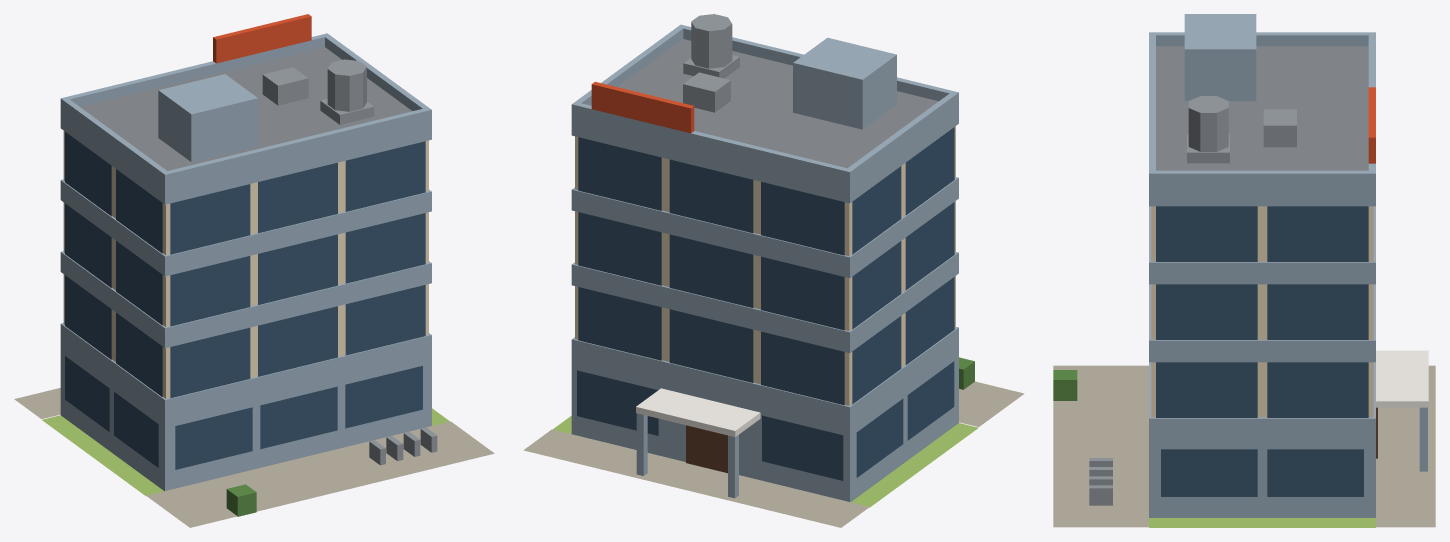
3 renders of one model, left to right at view 1: azimuth 30°, elevation 25°; view 2: azimuth 150°, elevation 25°; view 3: azimuth 270°, elevation 25°, orthographic. The views are drawn at different scales.
Visible parts, largest first — view 1: window_band (×20), spandrel (×4), ground_floor, yard, roof, parapet (×4), plant_room, walls, sign, lawn_l, water_tank, ac_unit (+3 smaller); view 2: window_band (×19), spandrel (×4), roof, ground_floor, parapet (×4), forecourt, plant_room, walls, canopy, sign, lawn_l, water_tank (+5 smaller); view 3: window_band (×8), spandrel (×4), roof, yard, ground_floor, parapet (×4), forecourt, plant_room, walls, canopy, lawn_r, water_tank (+6 smaller).
Part boxes in pixels (left/top/right/bottom): window_band (×20): left=65, top=132, right=425, bottom=469; spandrel (×4): left=60, top=109, right=431, bottom=419; ground_floor: left=60, top=344, right=431, bottom=491; yard: left=146, top=421, right=494, bottom=527; roof: left=80, top=47, right=412, bottom=170; parapet (×4): left=60, top=33, right=431, bottom=184; plant_room: left=158, top=74, right=258, bottom=162; walls: left=63, top=131, right=428, bottom=398; sign: left=213, top=14, right=311, bottom=63; lawn_l: left=42, top=415, right=163, bottom=496; water_tank: left=327, top=59, right=366, bottom=111; ac_unit: left=262, top=67, right=308, bottom=105; window_band (×19): left=577, top=127, right=954, bottom=480; spandrel (×4): left=571, top=103, right=958, bottom=427; roof: left=617, top=39, right=938, bottom=168; ground_floor: left=571, top=348, right=958, bottom=502; parapet (×4): left=571, top=24, right=958, bottom=182; forecourt: left=523, top=429, right=869, bottom=527; plant_room: left=793, top=37, right=896, bottom=129; walls: left=575, top=126, right=955, bottom=405; canopy: left=636, top=388, right=760, bottom=436; sign: left=591, top=81, right=694, bottom=133; lawn_l: left=851, top=423, right=978, bottom=507; water_tank: left=691, top=14, right=732, bottom=68; window_band (×8): left=1156, top=206, right=1368, bottom=496; spandrel (×4): left=1149, top=184, right=1375, bottom=439; roof: left=1156, top=46, right=1368, bottom=170; yard: left=1053, top=365, right=1148, bottom=527; ground_floor: left=1149, top=440, right=1375, bottom=517; parapet (×4): left=1149, top=32, right=1375, bottom=184; forecourt: left=1376, top=365, right=1435, bottom=527; plant_room: left=1184, top=14, right=1256, bottom=101; walls: left=1151, top=206, right=1373, bottom=417; canopy: left=1376, top=350, right=1428, bottom=407; lawn_r: left=1149, top=518, right=1375, bottom=527; water_tank: left=1188, top=96, right=1228, bottom=151.
Size of the model in its own units: 16 by 17.8 by 16.
